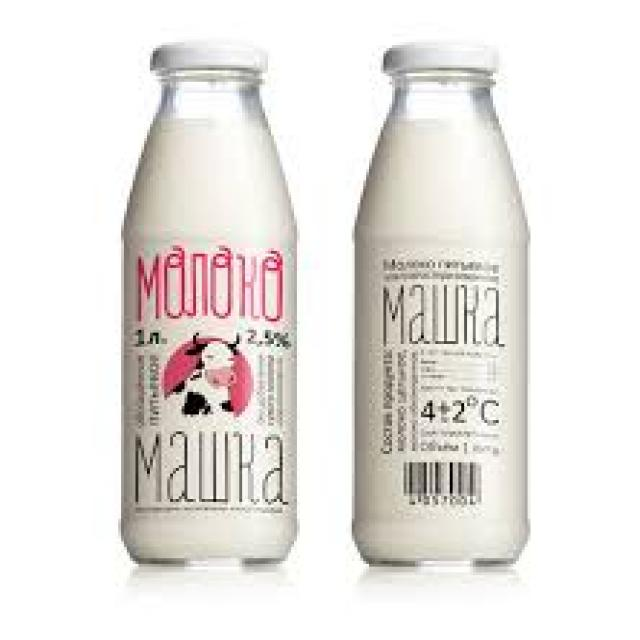non_white_jug: (91, 19, 318, 570), (347, 32, 552, 590)
